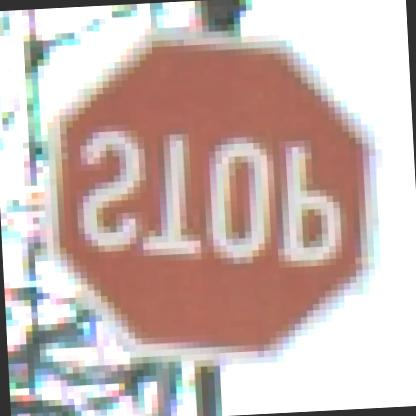stop: (20, 4, 406, 391)
